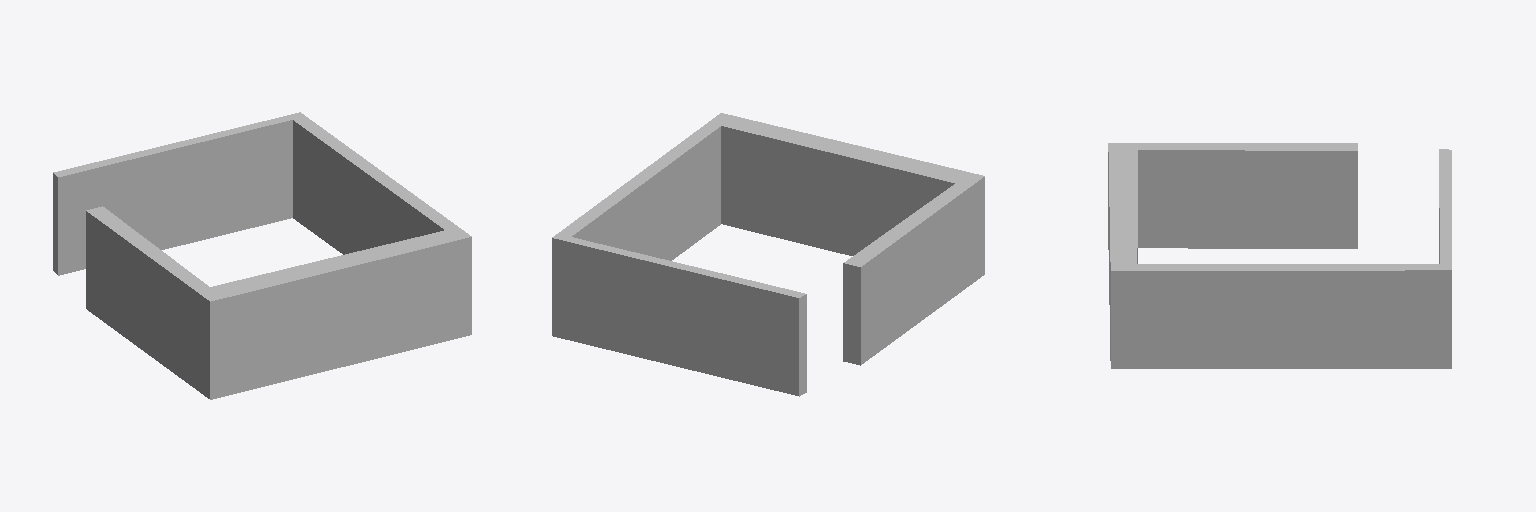
Rendered from bright_109.obj.
The picture shows the model from 3 angles: view 1: azimuth 30°, elevation 25°; view 2: azimuth 150°, elevation 25°; view 3: azimuth 270°, elevation 25°; orthographic projection.
Parts seen in each view (by area): view 1: polySurface11; view 2: polySurface11; view 3: polySurface11.
Part boxes in pixels (x1,y1,x2,y2): polySurface11: (53, 112, 471, 399); polySurface11: (552, 113, 984, 396); polySurface11: (1108, 143, 1451, 368).
Bounding box in the file's own units: 60.13 × 21.48 × 67.97.